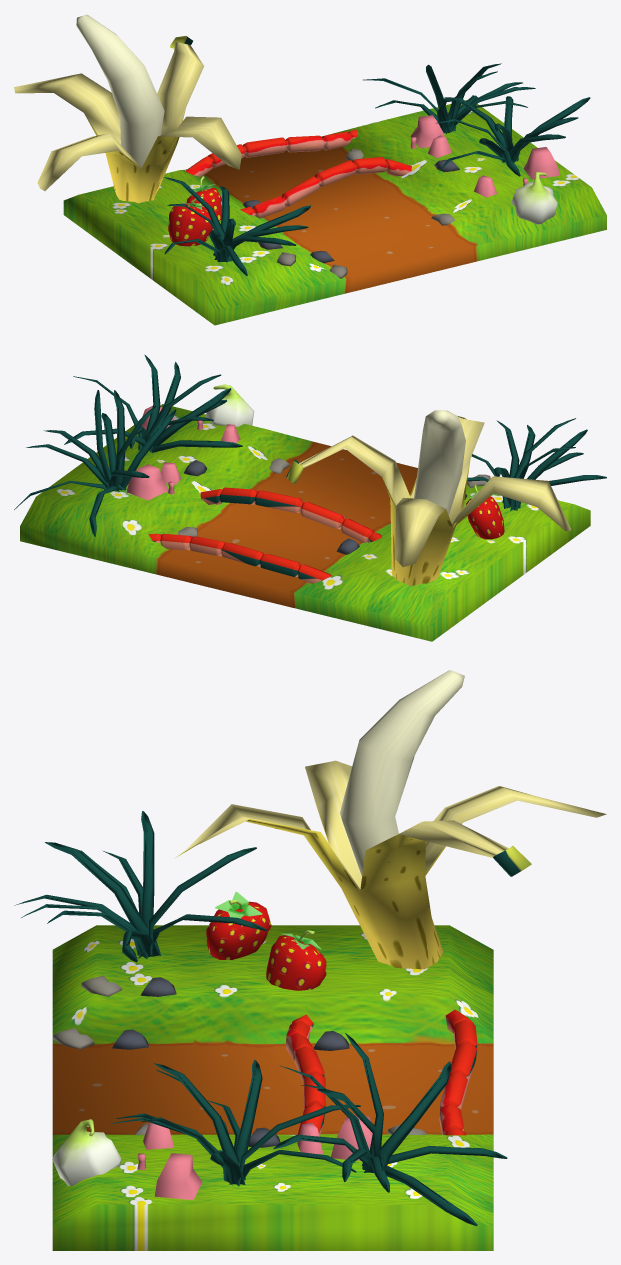
The model's file is D_block_04.FBX.
The picture shows the model from 3 angles, top to bottom: view 1: azimuth 30°, elevation 25°; view 2: azimuth 150°, elevation 25°; view 3: azimuth 270°, elevation 25°; orthographic projection. The views are drawn at different scales.
Parts seen in each view (by area): view 1: sol; view 2: sol; view 3: sol.
Boxes of the visible parts, x1,y1,x2,y2 form: sol: [14, 14, 606, 325]; sol: [14, 354, 606, 641]; sol: [14, 670, 606, 1250].
Size of the model in its own units: 1173 by 457 by 806.
